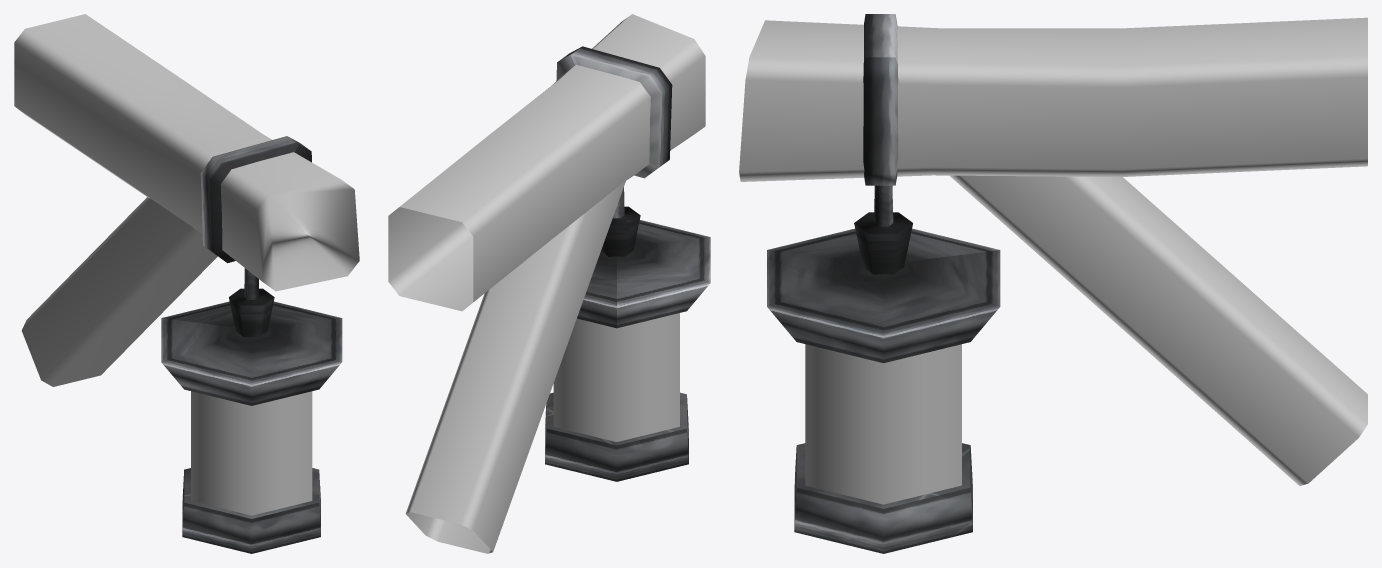
The model's file is StreetLightSmall.fbx.
3 views of the same model, side by side, from view 1: azimuth 30°, elevation 25°; view 2: azimuth 150°, elevation 25°; view 3: azimuth 270°, elevation 25° (orthographic). The views are drawn at different scales.
Parts seen in each view (by area): view 1: Mesh; view 2: Mesh; view 3: Mesh.
Part boxes in pixels (x1,y1,x2,y2): Mesh: (14, 14, 359, 553); Mesh: (388, 14, 710, 553); Mesh: (739, 14, 1367, 553).
Size of the model in its own units: 47.83 by 94.22 by 112.
